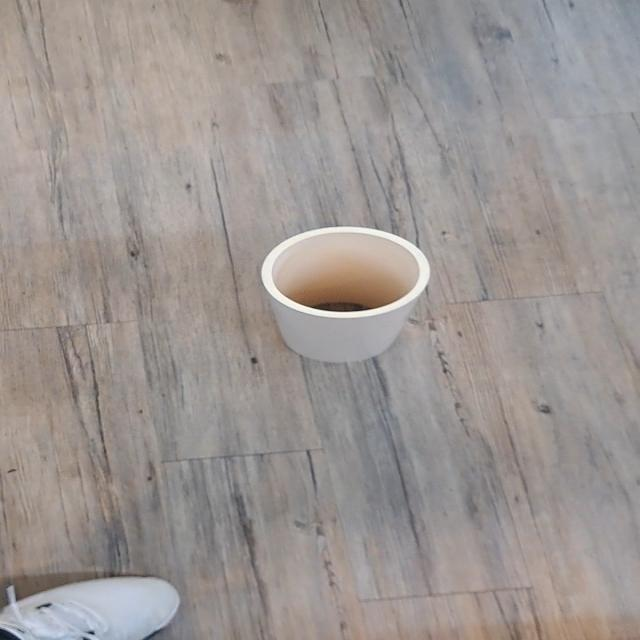CORAL: (228, 194, 456, 385)
